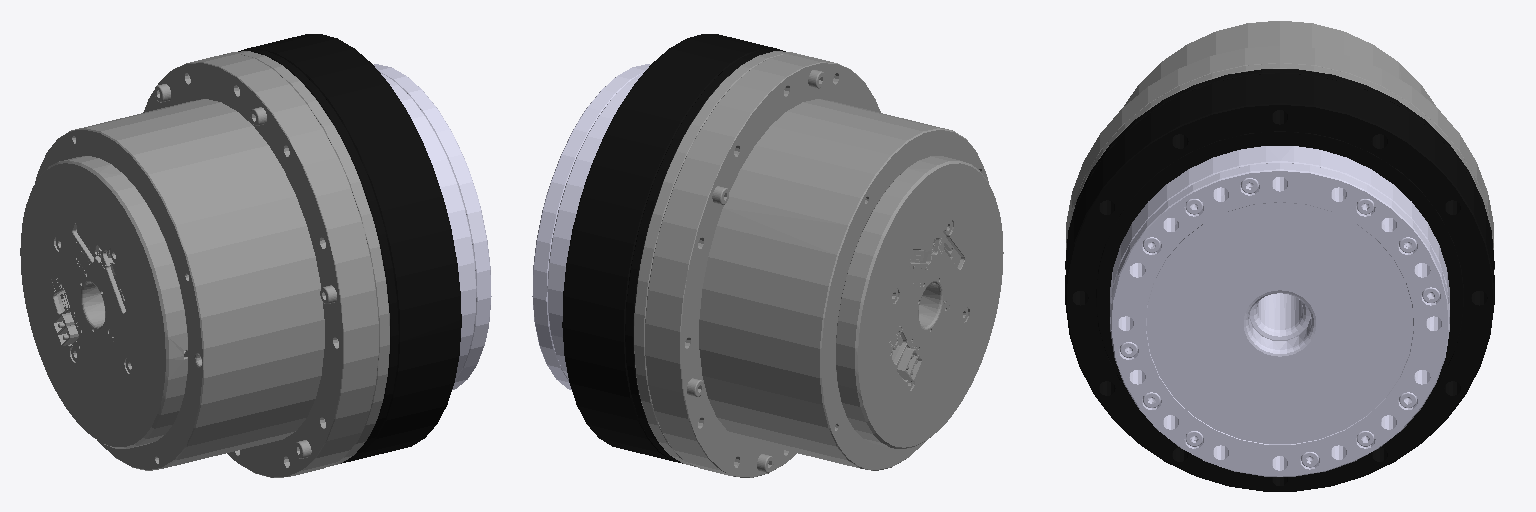
The robot description file, URDF, robot "erob170iv6":
<?xml version="1.0" encoding="utf-8"?>
<!-- This URDF was automatically created by SolidWorks to URDF Exporter! Originally created by [author] ([email redacted]) 
     Commit Version: 1.6.0-4-g7f85cfe  Build Version: 1.6.7995.38578
     For more information, please see http://wiki.ros.org/sw_urdf_exporter -->
<robot
  name="erob170iv6">
  <link
    name="base_link">
    <inertial>
      <origin
        xyz="0.056404 0.00025815 -3.2887E-06"
        rpy="0 0 0" />
      <mass
        value="0.60238" />
      <inertia
        ixx="0.0024424"
        ixy="-3.0768E-07"
        ixz="-6.2418E-08"
        iyy="0.0014757"
        iyz="-2.8497E-07"
        izz="0.0014686" />
    </inertial>
    <visual>
      <origin
        xyz="0 0 0"
        rpy="0 0 0" />
      <geometry>
        <mesh
          filename="package://erob_description/meshes/erob170iv6/base_link.STL" />
      </geometry>
      <material
        name="">
        <color
          rgba="0.627 0.627 0.627 1" />
      </material>
    </visual>
    <collision>
      <origin
        xyz="0 0 0"
        rpy="0 0 0" />
      <geometry>
        <mesh
          filename="package://erob_description/meshes/erob170iv6/base_link.STL" />
      </geometry> 
    </collision>
  </link>
  <link
    name="fixed_link">
    <inertial>
      <origin
        xyz="0.10639 4.3871E-13 -3.4231E-11"
        rpy="0 0 0" />
      <mass
        value="0.3784" />
      <inertia
        ixx="0.0019011"
        ixy="1.298E-15"
        ixz="-9.6397E-14"
        iyy="0.00098736"
        iyz="6.818E-09"
        izz="0.00098738" />
    </inertial>
    <visual>
      <origin
        xyz="0 0 0"
        rpy="0 0 0" />
      <geometry>
        <mesh
          filename="package://erob_description/meshes/erob170iv6/fixed_link.STL" />
      </geometry>
      <material
        name="">
        <color
          rgba="0.1 0.1 0.1 1" />
      </material>
    </visual>
    <collision>
      <origin
        xyz="0 0 0"
        rpy="0 0 0" />
      <geometry>
        <mesh
          filename="package://erob_description/meshes/erob170iv6/fixed_link.STL" />
      </geometry>
    </collision>
  </link>
  <joint
    name="fixed_joint"
    type="fixed">
    <origin
      xyz="0 0 0"
      rpy="0 0 0" />
    <parent
      link="base_link" />
    <child
      link="fixed_link" />
    <axis
      xyz="0 0 0" />
  </joint>
  <link
    name="revolute_link">
    <inertial>
      <origin
        xyz="-0.012582 6.1119E-05 -9.0731E-05"
        rpy="0 0 0" />
      <mass
        value="0.18567" />
      <inertia
        ixx="0.00049966"
        ixy="-7.5121E-09"
        ixz="1.1991E-08"
        iyy="0.00030649"
        iyz="-5.7433E-07"
        izz="0.00030697" />
    </inertial>
    <visual>
      <origin
        xyz="0 0 0"
        rpy="0 0 0" />
      <geometry>
        <mesh
          filename="package://erob_description/meshes/erob170iv6/revolute_link.STL" />
      </geometry>
      <material
        name="">
        <color
          rgba="0.863 0.863 0.941 1" />
      </material>
    </visual>
    <collision>
      <origin
        xyz="0 0 0"
        rpy="0 0 0" />
      <geometry>
        <mesh
          filename="package://erob_description/meshes/erob170iv6/revolute_link.STL" />
      </geometry>
    </collision>
  </link>
  <joint
    name="revolute_joint"
    type="revolute">
    <origin
      xyz="0.144 0 0"
      rpy="0 0 0" />
    <parent
      link="base_link" />
    <child
      link="revolute_link" />
    <axis
      xyz="-1 0 0" />
    <limit
      lower="-3.14"
      upper="3.14"
      effort="169"
      velocity="1.57" />
  </joint>
</robot>

--- Facts derived from the render (not from the file) ---
The picture shows the robot from 3 angles, left to right: view 1: azimuth 30°, elevation 25°; view 2: azimuth 150°, elevation 25°; view 3: azimuth 270°, elevation 25°; orthographic projection.
Robot: erob170iv6 — 3 links, 2 joints (1 revolute, 1 fixed); root link base_link; default pose: every joint at zero.
Links seen in each view (by area): view 1: base_link, fixed_link, revolute_link; view 2: base_link, fixed_link, revolute_link; view 3: revolute_link, fixed_link, base_link.
Boxes of the visible links, left/top/right/bottom form: base_link: left=20, top=51, right=389, bottom=477; fixed_link: left=238, top=34, right=461, bottom=463; revolute_link: left=374, top=64, right=491, bottom=389; base_link: left=634, top=51, right=1003, bottom=477; fixed_link: left=562, top=34, right=785, bottom=463; revolute_link: left=532, top=64, right=649, bottom=389; revolute_link: left=1110, top=146, right=1449, bottom=476; fixed_link: left=1065, top=69, right=1494, bottom=491; base_link: left=1065, top=21, right=1494, bottom=269.
Bounding box of the posed robot: 0.1483 × 0.17 × 0.17 m (x, y, z).
3 mesh visuals loaded from 3 distinct referenced files (3 binary STL).
